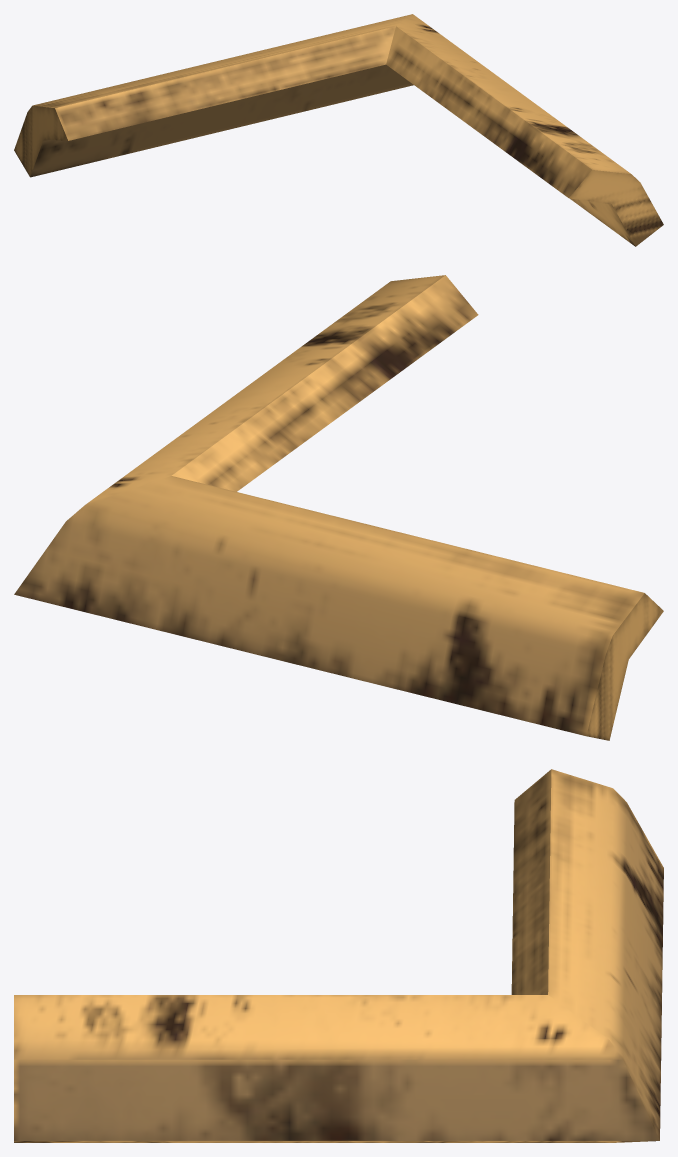
File: roof_top_adornment_B.fbx
3 views of the same model, one above another, from view 1: azimuth 30°, elevation 25°; view 2: azimuth 150°, elevation 25°; view 3: azimuth 270°, elevation 25° (orthographic). The views are drawn at different scales.
Visible parts, largest first — view 1: roof_top_adornment_B; view 2: roof_top_adornment_B; view 3: roof_top_adornment_B.
Part boxes in pixels (bbox=[...]): roof_top_adornment_B: bbox=[14, 14, 663, 246]; roof_top_adornment_B: bbox=[14, 275, 663, 740]; roof_top_adornment_B: bbox=[14, 769, 663, 1142].
Size of the model in its own units: 115 by 23.37 by 115.
Materials: 1 (1 with a texture image).
